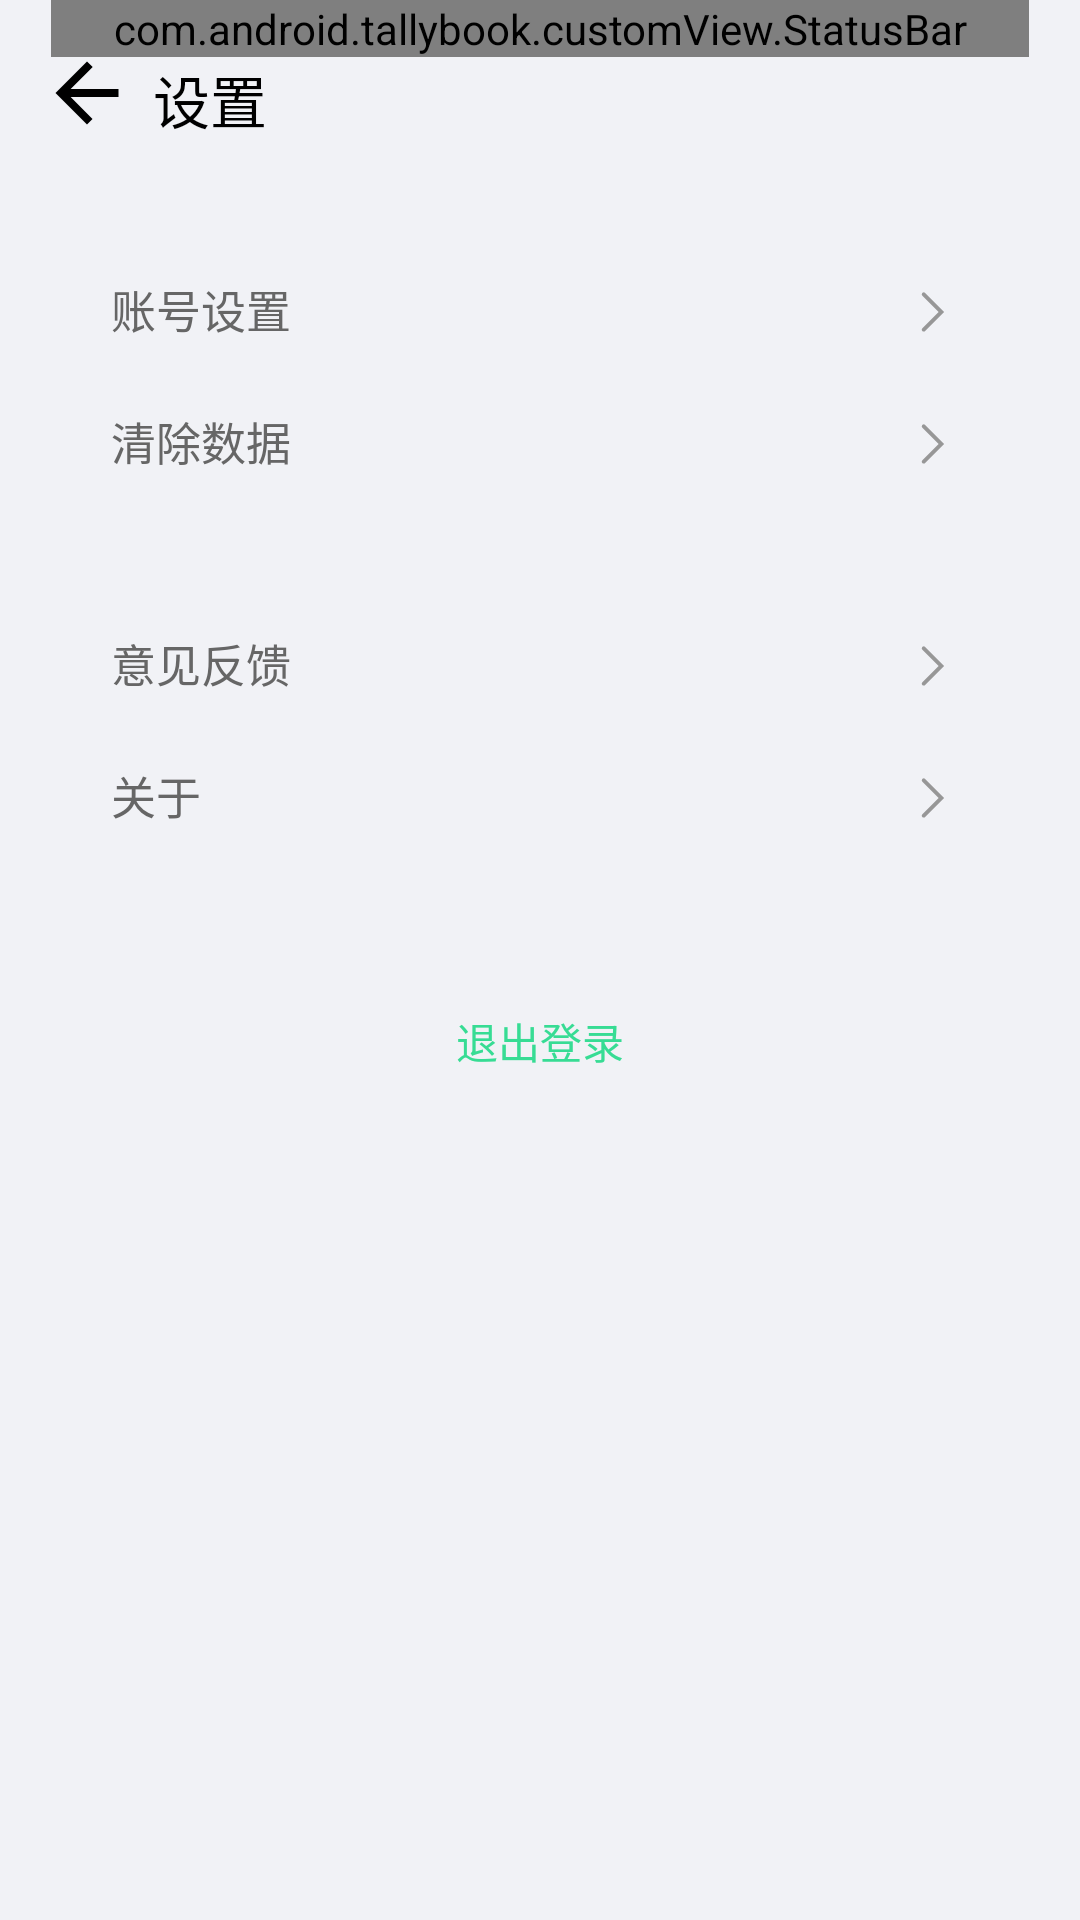

Where icons sit on this 1080 x 1920 app screen, as box=[x1, y1, x2, y2]:
back: box=[55, 61, 119, 125]
right: box=[922, 292, 944, 332], box=[922, 424, 944, 464], box=[922, 646, 944, 686], box=[922, 778, 944, 818]
